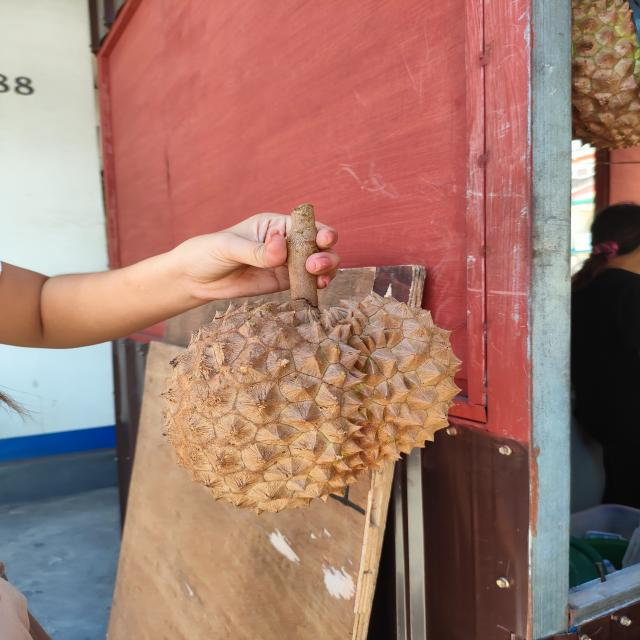mature: (161, 289, 460, 515)
